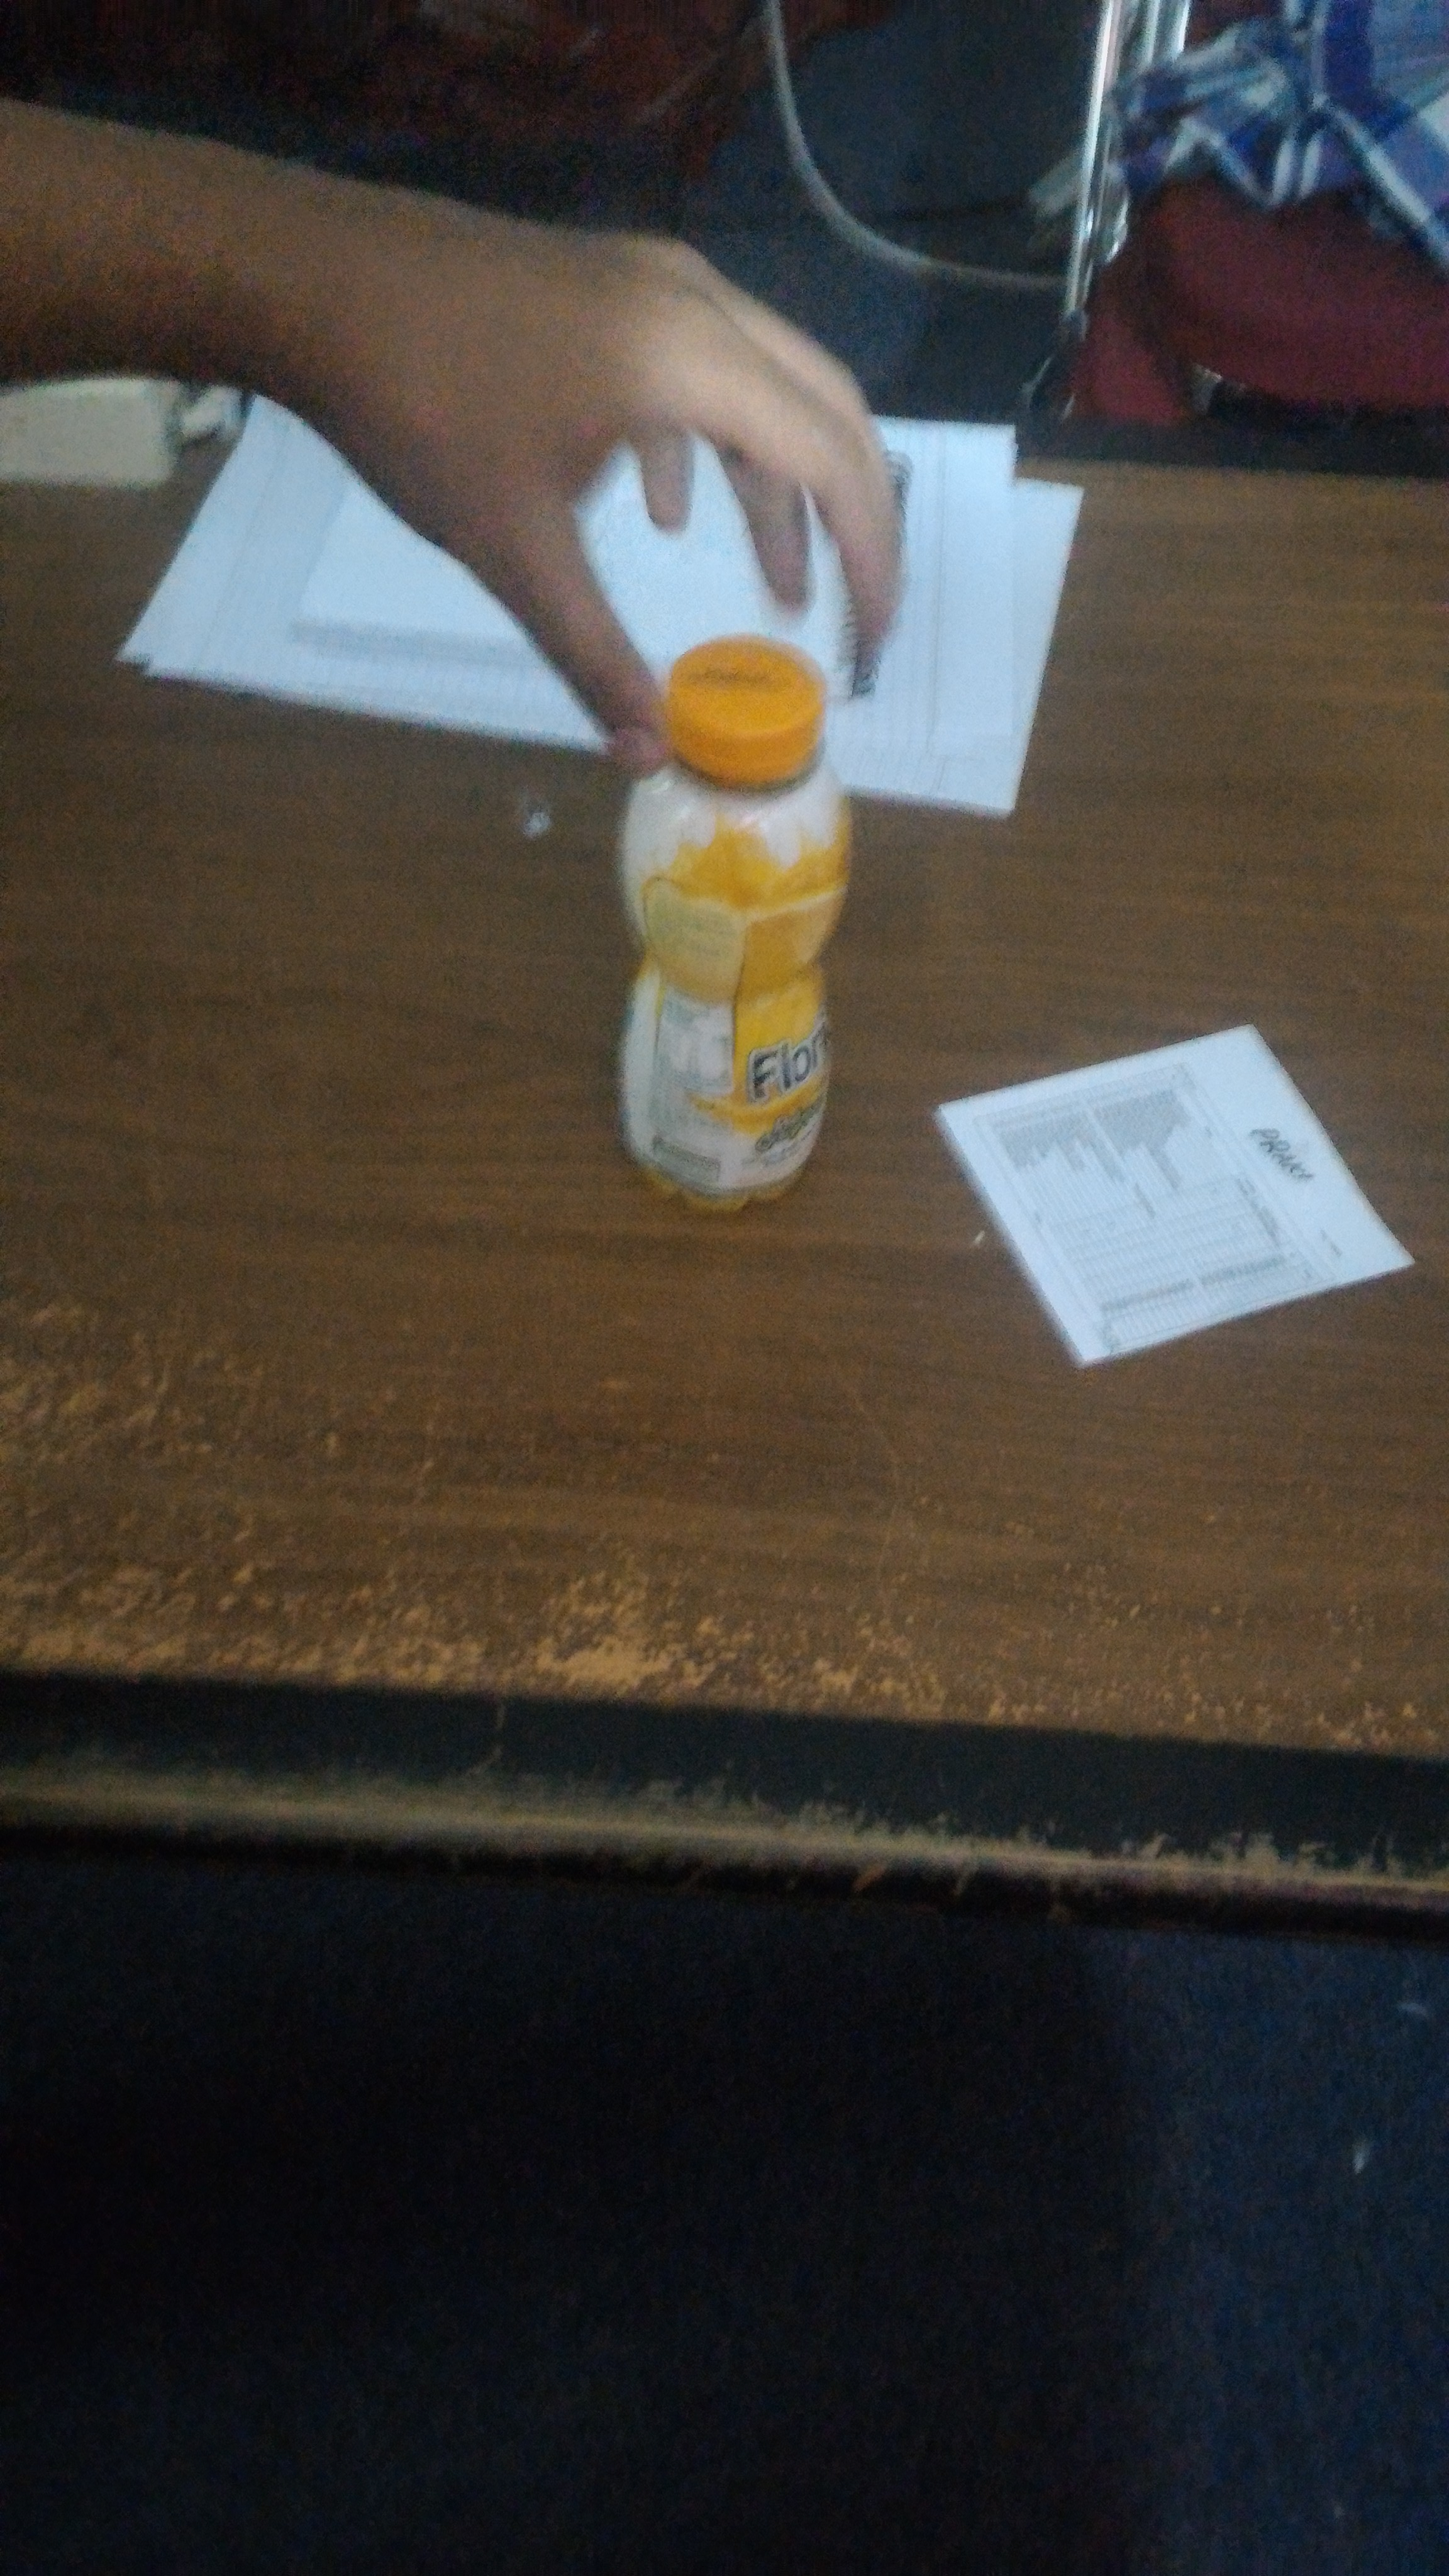botol: (614, 635, 846, 1215), (639, 635, 846, 1215)
